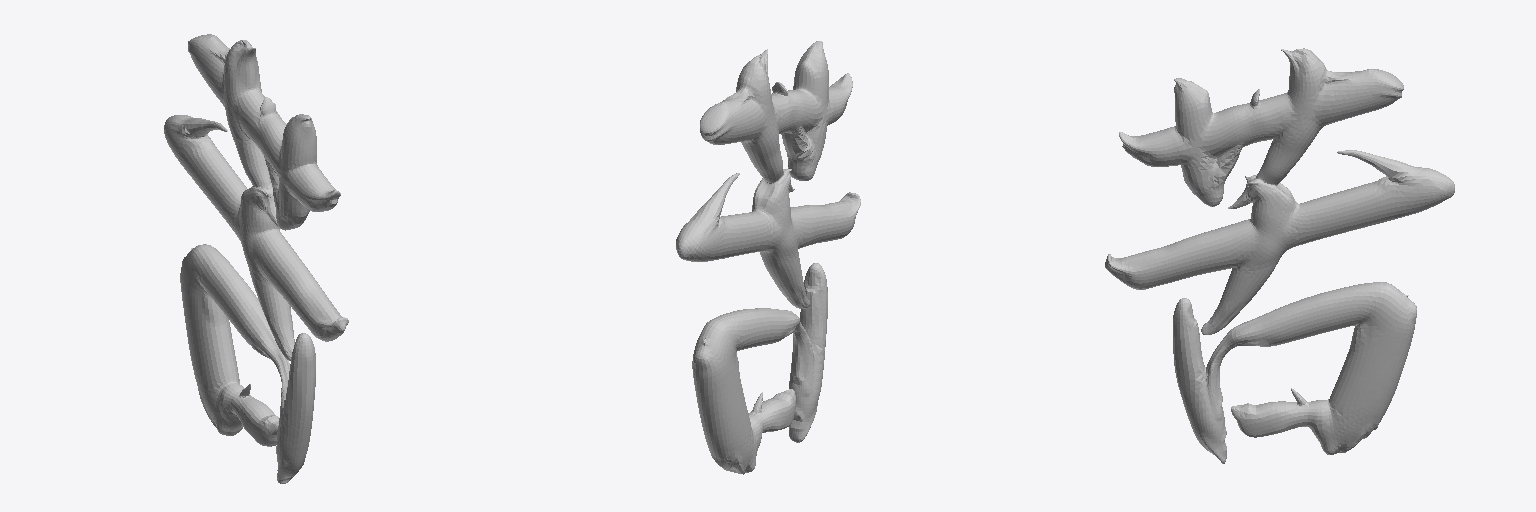
3 renders of one model, left to right at view 1: azimuth 30°, elevation 25°; view 2: azimuth 150°, elevation 25°; view 3: azimuth 270°, elevation 25°, orthographic.
Visible parts, largest first — view 1: tripo_node_1f2c87c1-8d45-4b45-9bb6-104023aa8a17; view 2: tripo_node_1f2c87c1-8d45-4b45-9bb6-104023aa8a17; view 3: tripo_node_1f2c87c1-8d45-4b45-9bb6-104023aa8a17.
Part boxes in pixels (left/top/right/bottom): tripo_node_1f2c87c1-8d45-4b45-9bb6-104023aa8a17: left=164, top=34, right=348, bottom=483; tripo_node_1f2c87c1-8d45-4b45-9bb6-104023aa8a17: left=676, top=41, right=860, bottom=474; tripo_node_1f2c87c1-8d45-4b45-9bb6-104023aa8a17: left=1105, top=48, right=1454, bottom=463.
Size of the model in its own units: 0.0867 by 0.999 by 0.7665.